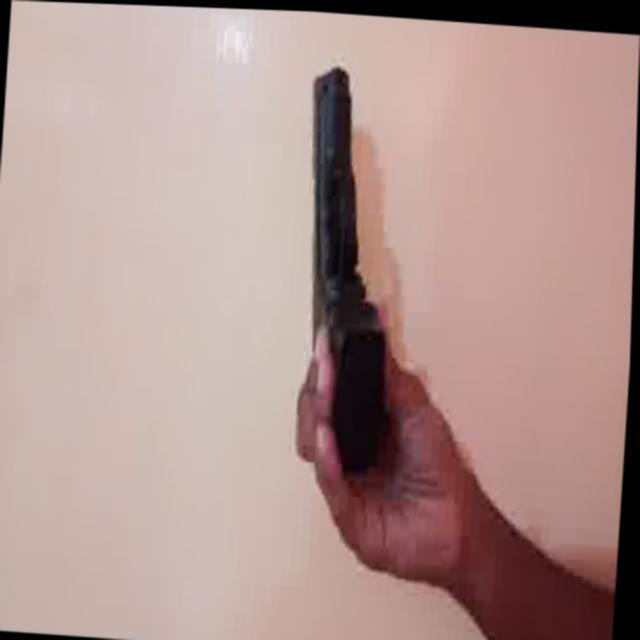weapon: (291, 59, 410, 472)
